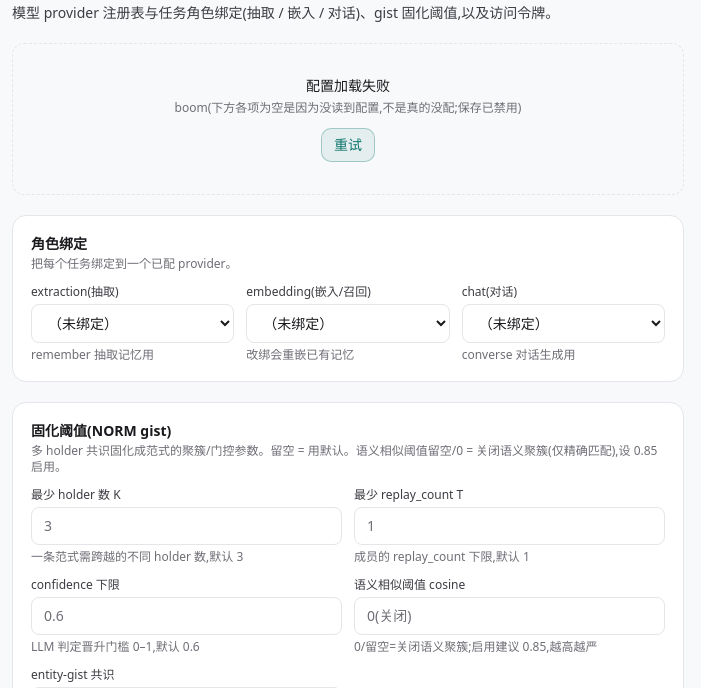
Test: 设置页:配置加载门(数据丢失防线) › 重试成功后解除封锁(一次失败不该永久锁死这页)
Click the button "重试".
click(348, 145)  # box [321,128,375,162]
(page scrolled)
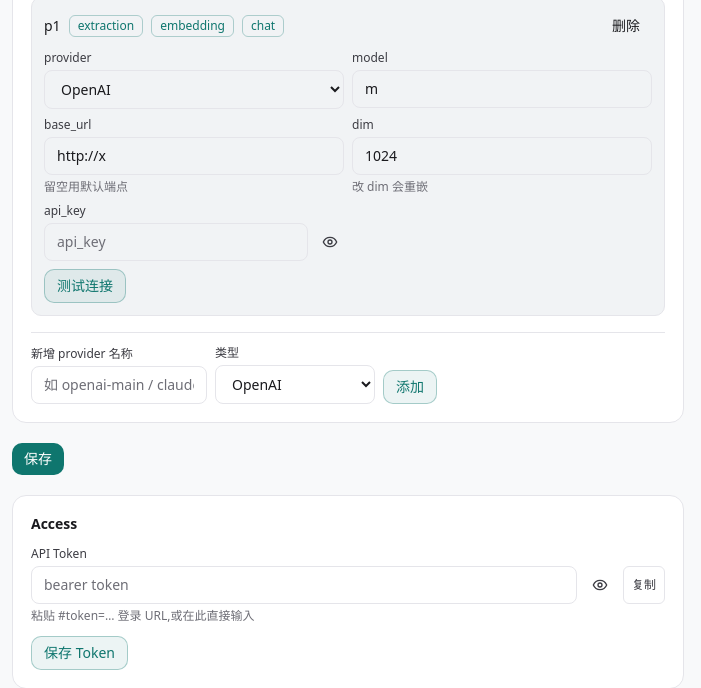
Check: the button "保存" is enabled, box [12,443,64,475]
